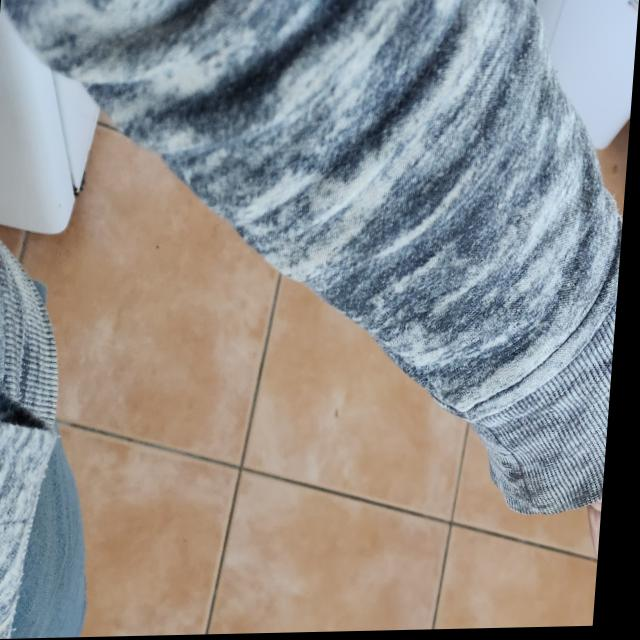soy sauce: (508, 624, 603, 630)
